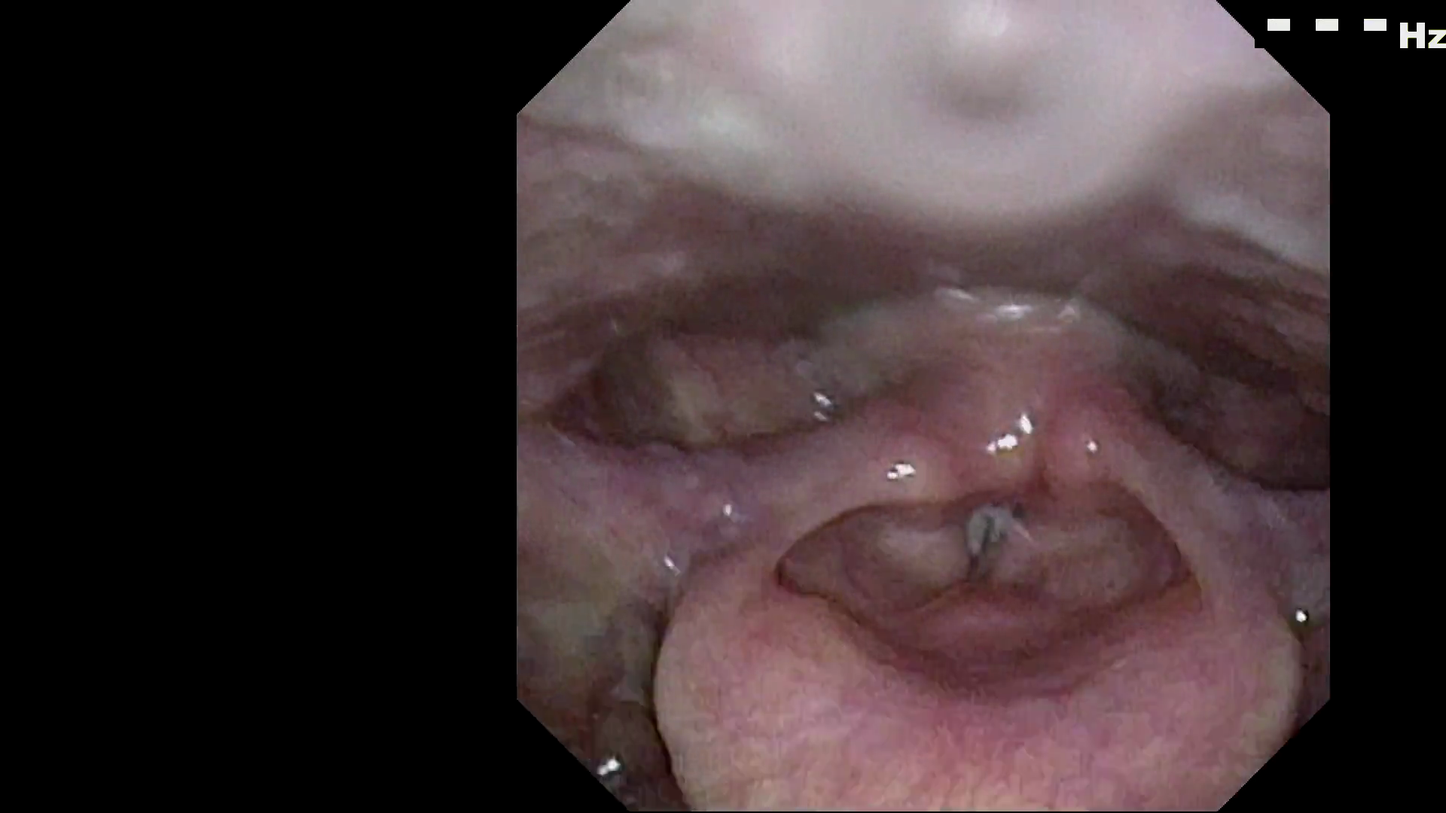epiglottis: (677, 599, 1239, 770), (699, 369, 1249, 536)
